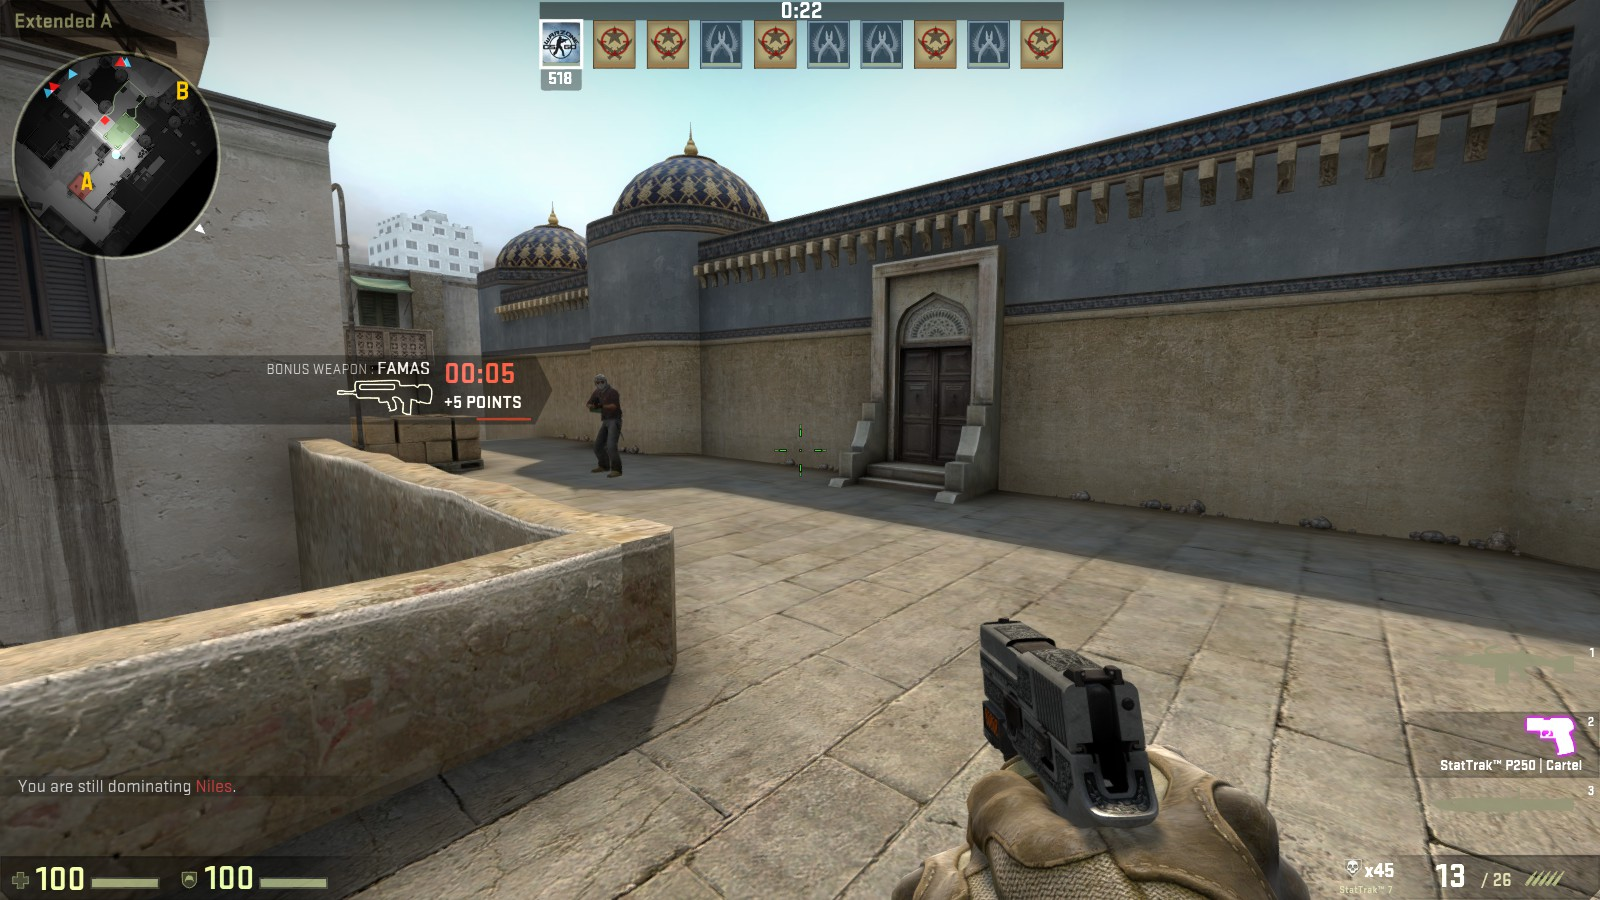t: (588, 373, 627, 480)
th: (595, 373, 608, 391)
